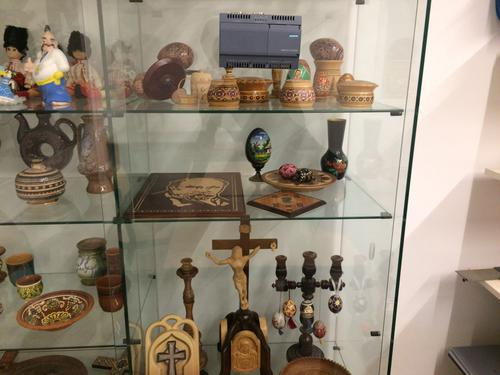iot2000: (218, 10, 302, 70)
